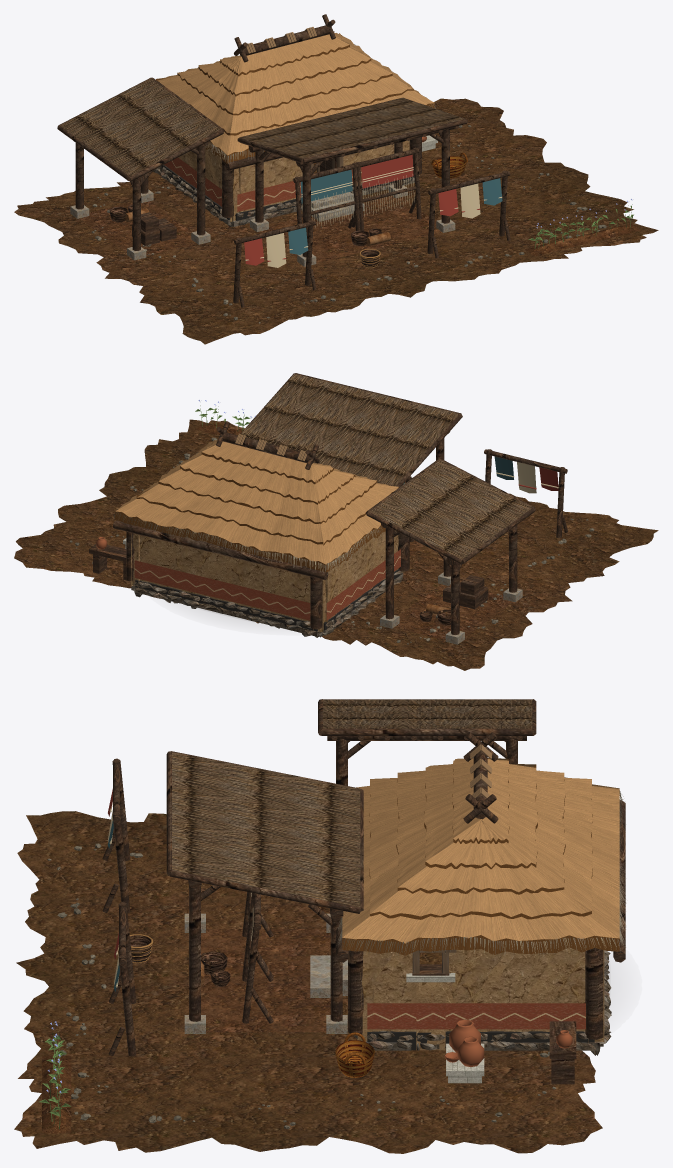
File: weaver.glb
3 views of the same model, one above another, from view 1: azimuth 30°, elevation 25°; view 2: azimuth 150°, elevation 25°; view 3: azimuth 270°, elevation 25° (orthographic). The views are drawn at different scales.
Visible parts, largest first — view 1: part_1, part_8, part_23, part_13, part_11, part_5, part_17, part_24, part_12, part_19, part_18, part_27 (+6 smaller); view 2: part_1, part_13, part_23, part_8, part_5, part_27, part_24, part_4, part_11, part_25, part_26, part_12 (+2 smaller); view 3: part_1, part_23, part_13, part_8, part_11, part_5, part_24, part_27, part_4, part_12, part_25, part_14 (+6 smaller).
Part boxes in pixels (x1,y1,x2,y2): part_1: (14, 98, 658, 344); part_8: (57, 14, 510, 307); part_23: (157, 33, 434, 155); part_13: (60, 78, 464, 176); part_11: (80, 195, 640, 263); part_5: (164, 140, 419, 221); part_17: (245, 167, 502, 267); part_24: (156, 31, 434, 163); part_12: (70, 185, 455, 266); part_19: (244, 154, 480, 265); part_18: (288, 169, 502, 254); part_27: (164, 157, 362, 211); part_1: (14, 419, 658, 670); part_13: (241, 374, 532, 559); part_23: (115, 438, 398, 564); part_8: (89, 373, 567, 634); part_5: (130, 530, 404, 632); part_27: (134, 549, 400, 620); part_24: (115, 452, 398, 572); part_4: (131, 570, 403, 637); part_11: (195, 422, 512, 639); part_25: (114, 452, 382, 574); part_26: (135, 569, 402, 636); part_12: (380, 572, 522, 644); part_1: (14, 811, 602, 1153); part_23: (342, 758, 619, 943); part_13: (170, 699, 532, 907); part_8: (102, 699, 625, 1084); part_11: (42, 929, 330, 1133); part_5: (357, 915, 604, 1050); part_24: (342, 759, 619, 955); part_27: (367, 1003, 585, 1029); part_4: (353, 950, 611, 1055); part_12: (184, 913, 347, 1033); part_25: (336, 788, 626, 956); part_14: (444, 1019, 572, 1066).
Bounding box in the file's own units: 9.13 × 2.82 × 7.23.
Materials: 28 (18 with a texture image).
